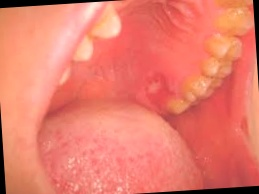Ulcer: (147, 73, 166, 95)
